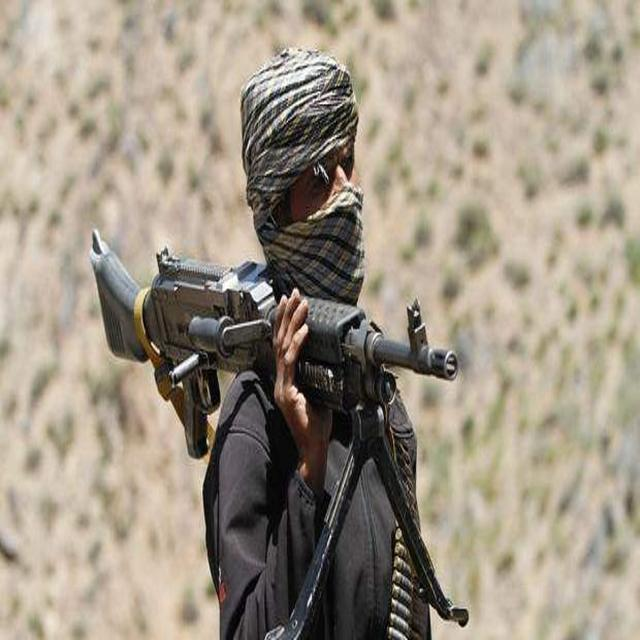Militant: (122, 22, 476, 640)
